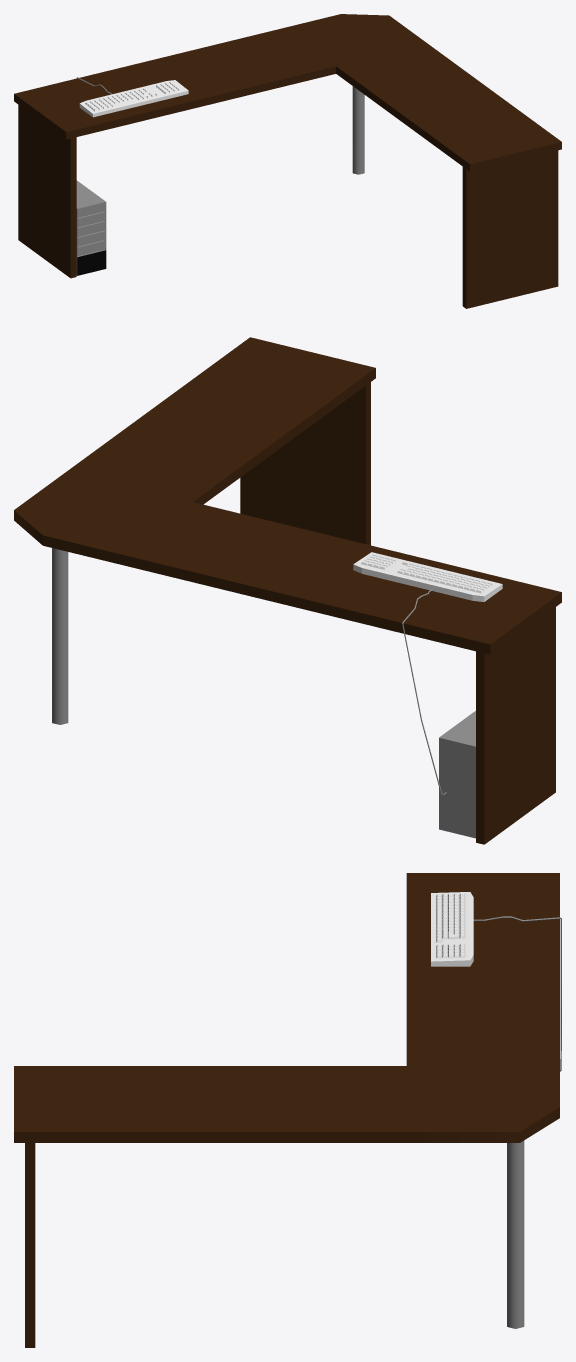
The model's file is Escritorio(sinMonitor).FBX.
The picture shows the model from 3 angles, top to bottom: view 1: azimuth 30°, elevation 25°; view 2: azimuth 150°, elevation 25°; view 3: azimuth 270°, elevation 25°; orthographic projection. The views are drawn at different scales.
Visible parts, largest first — view 1: Escritorio; view 2: Escritorio; view 3: Escritorio.
Part boxes in pixels (x1,y1,x2,y2): Escritorio: (14,14,561,308); Escritorio: (14,337,561,844); Escritorio: (14,873,561,1347).
Size of the model in its own units: 9.29 by 3.76 by 8.32.
